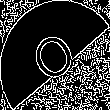O_SE: (26, 22, 84, 88)
